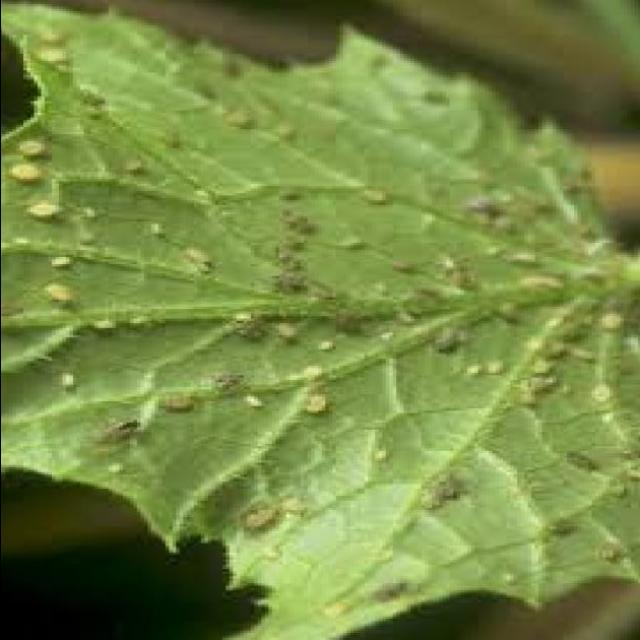Aphids: (243, 200, 369, 428), (390, 257, 514, 379), (77, 378, 216, 456), (6, 140, 77, 227), (152, 234, 232, 289), (32, 249, 86, 329), (237, 492, 303, 555)
